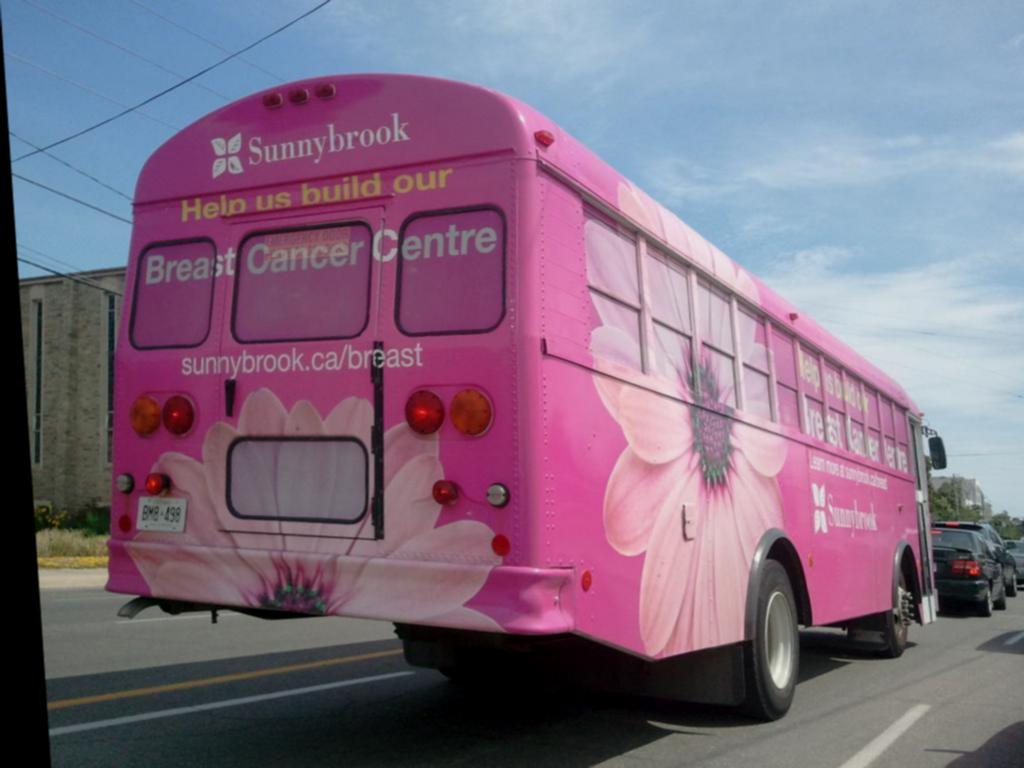License_Plate: (135, 495, 188, 535)
